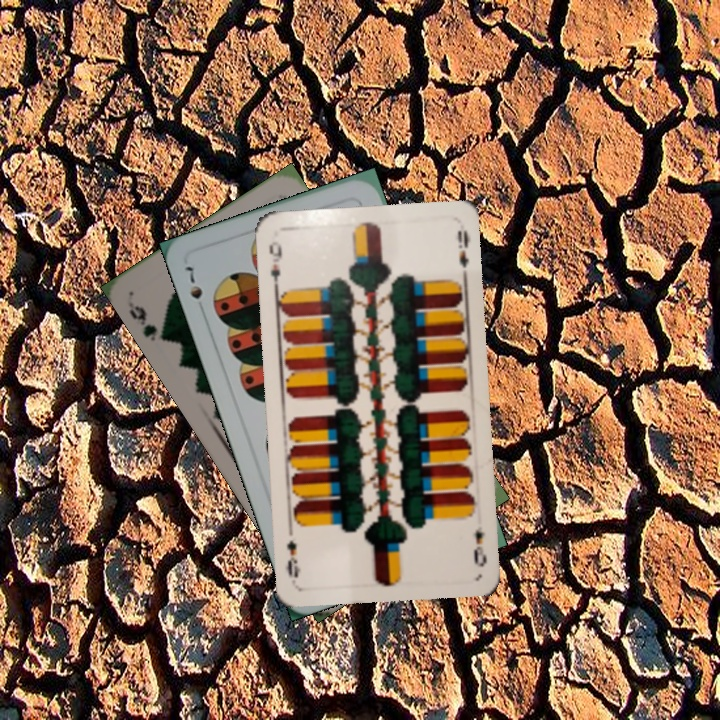E9: (265, 237, 284, 293), (470, 522, 490, 570)
G9: (125, 301, 170, 344)
S7: (180, 260, 205, 302)
